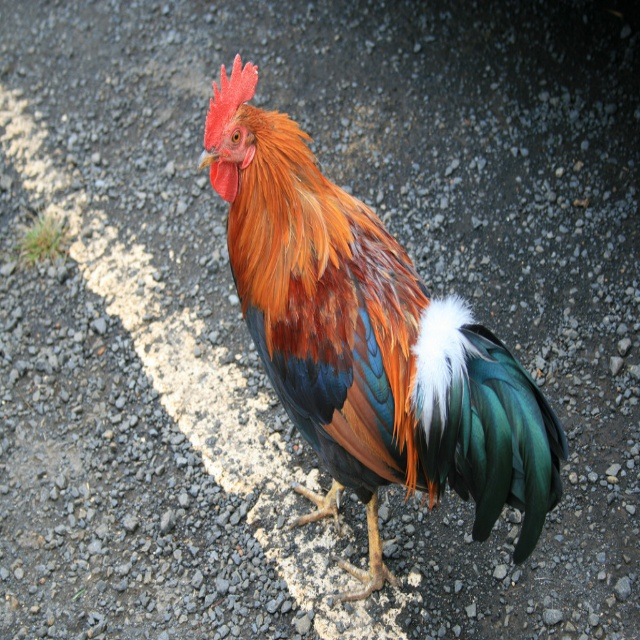Chicken: (206, 39, 569, 612)
